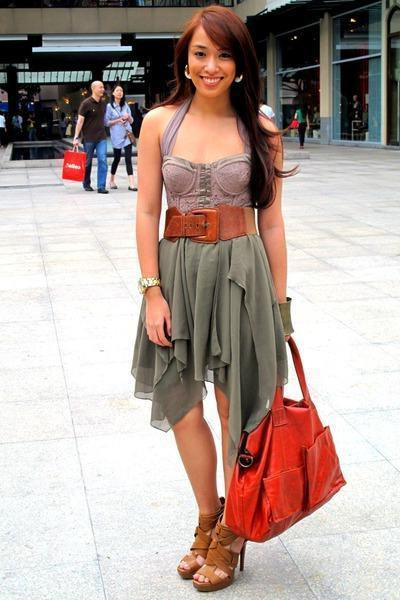skirt: (128, 231, 293, 459)
vest: (160, 147, 262, 212)
